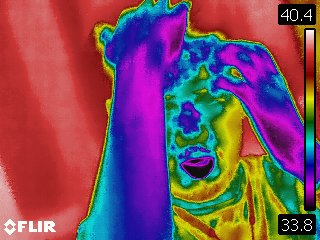human: (77, 1, 281, 240)
